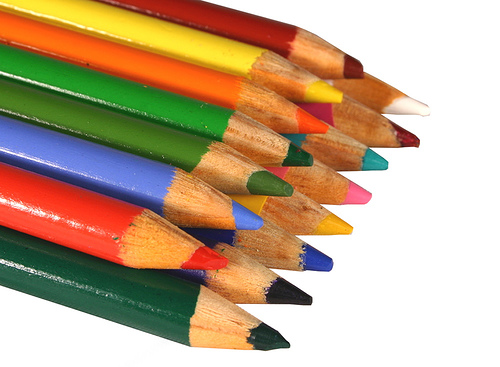pen_tip: (183, 276, 299, 355)
